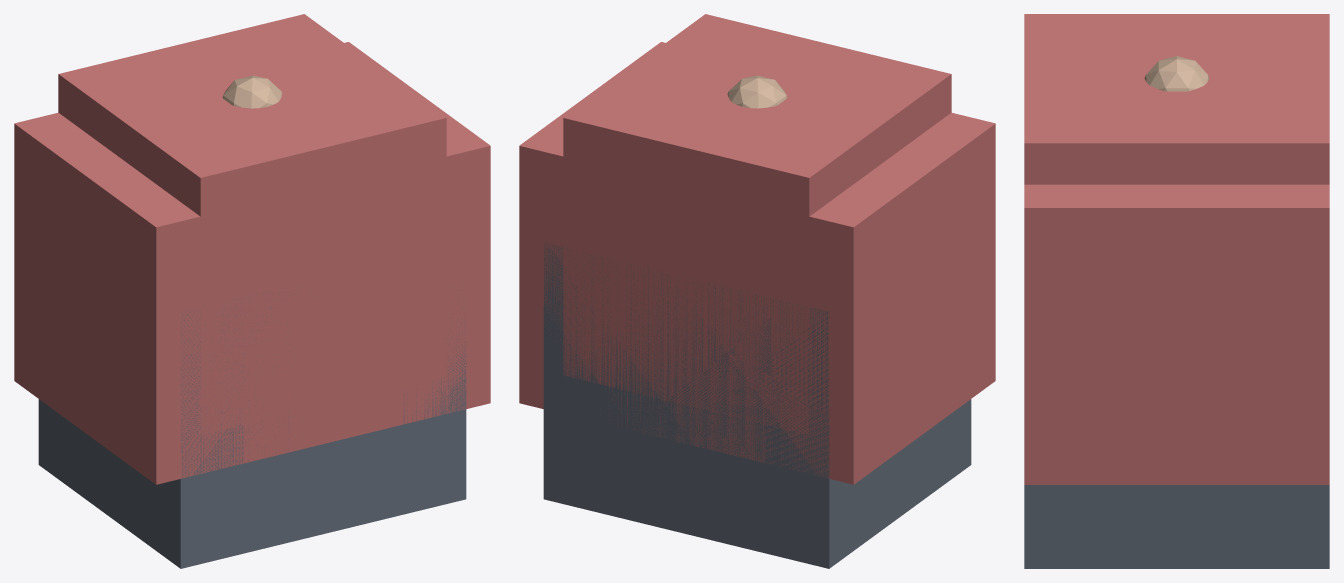
Rendered from hum_standing.glb.
3 renders of one model, left to right at view 1: azimuth 30°, elevation 25°; view 2: azimuth 150°, elevation 25°; view 3: azimuth 270°, elevation 25°, orthographic. The views are drawn at different scales.
Visible parts, largest first — view 1: world; view 2: world; view 3: world.
Part boxes in pixels (x1,y1,x2,y2): world: [14, 14, 490, 568]; world: [519, 14, 995, 568]; world: [1024, 14, 1329, 568].
Size of the model in its own units: 1.36 by 1.57 by 1.
